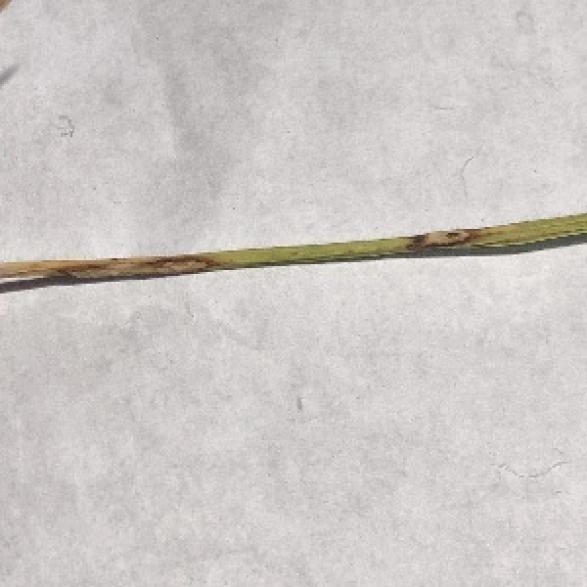Leaf_smut: (47, 219, 517, 290)
